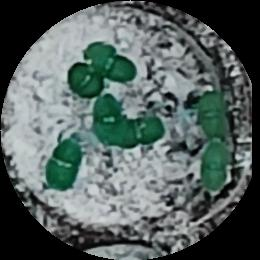Basil: (88, 42, 143, 85), (57, 63, 108, 100), (92, 90, 124, 147), (43, 141, 81, 189), (121, 112, 162, 153), (195, 144, 229, 193), (197, 92, 228, 142)
